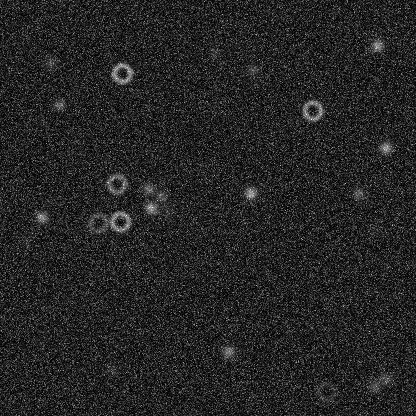Ring: (108, 209, 132, 233), (104, 171, 128, 195), (300, 98, 324, 122), (314, 379, 338, 403), (85, 210, 109, 234), (110, 61, 134, 85)
Spot: (18, 231, 34, 247), (368, 221, 384, 237), (369, 37, 385, 53), (140, 180, 156, 196), (33, 209, 49, 225), (103, 361, 119, 377), (377, 139, 393, 155), (160, 202, 176, 218), (350, 185, 366, 201), (142, 200, 158, 216), (244, 61, 260, 77), (50, 96, 66, 112), (206, 44, 222, 60), (366, 378, 382, 394), (220, 343, 236, 359), (377, 370, 393, 386), (152, 188, 168, 204), (42, 54, 58, 70), (242, 184, 258, 200)
